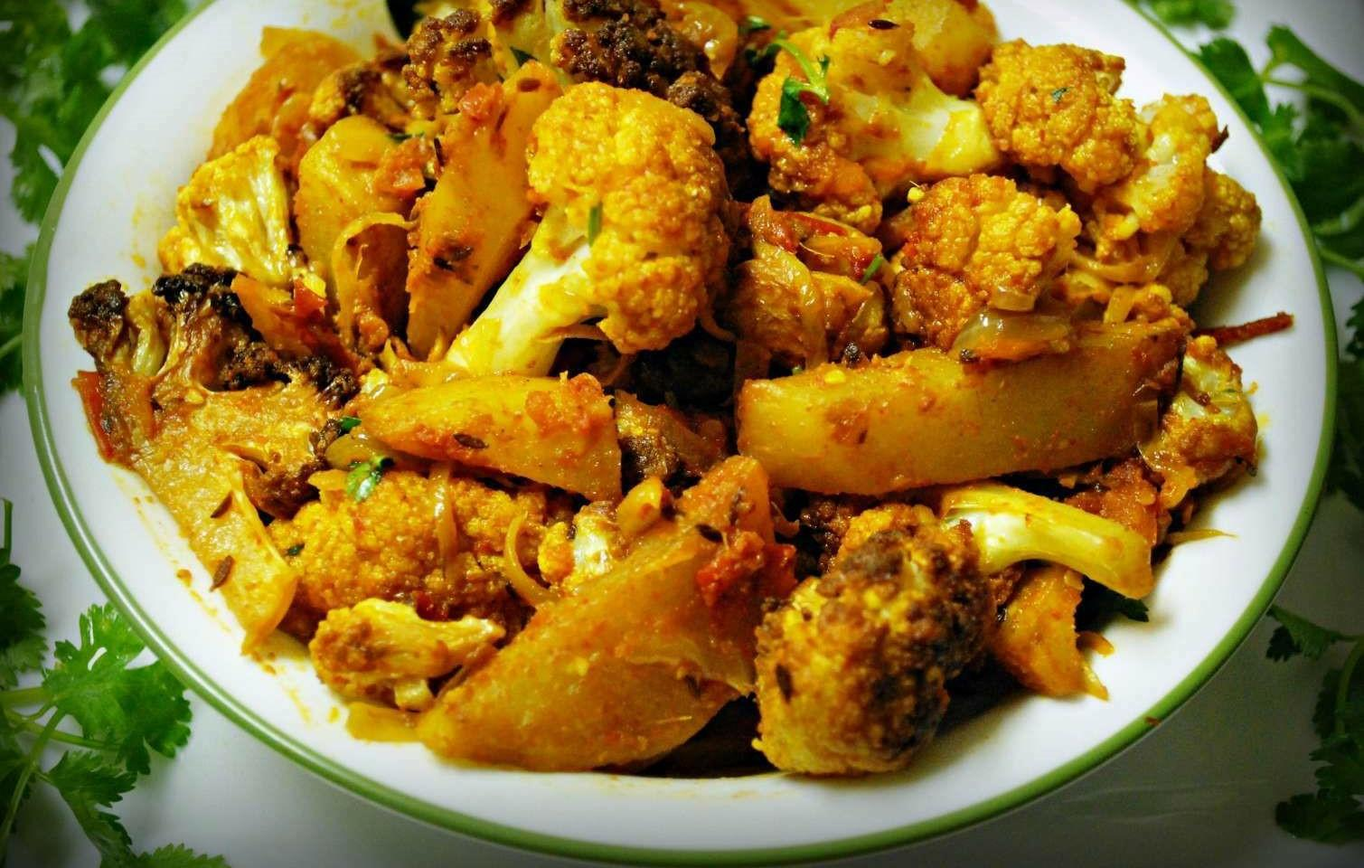AlooGobi: (68, 2, 1260, 776)
